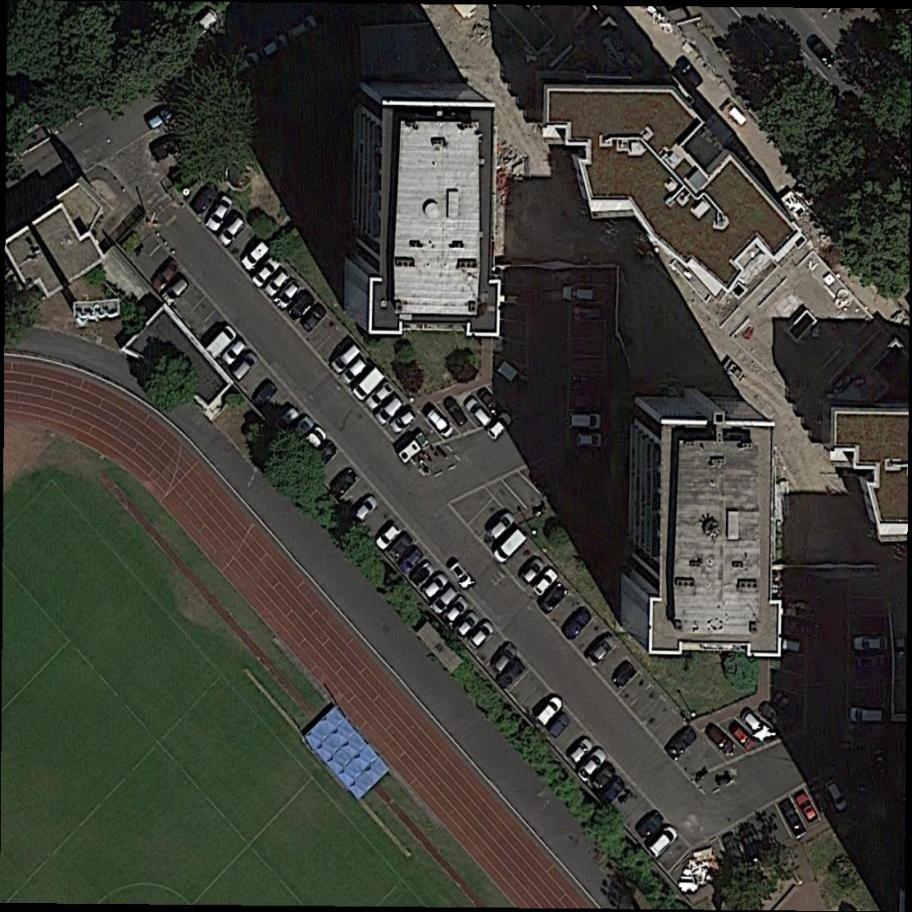small-vehicle: (662, 724, 700, 763), (491, 527, 529, 565), (349, 365, 387, 403), (644, 822, 681, 860), (804, 32, 840, 70), (187, 179, 222, 218), (203, 193, 235, 235), (204, 324, 239, 360), (584, 633, 619, 668), (575, 748, 609, 784), (328, 340, 362, 376), (150, 257, 183, 294), (396, 430, 430, 465), (284, 13, 320, 46), (673, 55, 706, 91), (778, 798, 807, 838), (363, 379, 397, 413), (249, 255, 282, 290), (537, 581, 570, 615), (424, 406, 458, 439), (215, 213, 246, 249), (483, 510, 516, 543), (240, 240, 273, 273), (462, 396, 495, 429), (561, 608, 593, 642), (229, 350, 261, 384), (258, 31, 292, 63), (484, 409, 516, 443), (769, 691, 804, 722), (495, 657, 527, 690), (533, 695, 565, 728), (466, 618, 498, 651), (373, 394, 405, 427), (285, 288, 316, 322), (419, 570, 451, 602), (705, 724, 737, 756), (755, 699, 788, 730), (739, 709, 772, 740), (635, 809, 666, 841), (189, 7, 220, 39), (299, 301, 330, 333), (441, 594, 471, 627), (262, 267, 292, 300), (530, 566, 560, 598), (597, 775, 627, 807), (442, 395, 471, 428), (824, 777, 851, 812), (396, 545, 426, 576), (385, 531, 415, 562), (589, 761, 619, 792), (329, 467, 359, 498), (160, 275, 190, 306), (475, 386, 505, 417), (274, 278, 303, 310), (737, 825, 762, 861), (490, 642, 519, 673), (454, 609, 483, 640), (374, 522, 403, 553), (429, 585, 458, 615), (727, 722, 757, 751), (339, 356, 368, 386), (519, 556, 547, 586), (446, 560, 474, 590), (251, 380, 279, 410), (807, 781, 832, 814), (720, 830, 744, 864), (352, 495, 380, 524), (220, 338, 248, 367), (274, 405, 302, 434), (233, 50, 262, 78), (611, 661, 638, 690), (388, 408, 417, 435), (545, 712, 572, 740), (568, 738, 595, 766), (302, 424, 329, 452), (794, 792, 818, 823), (313, 438, 340, 465), (411, 561, 437, 588), (290, 414, 316, 440), (145, 106, 172, 130), (853, 634, 887, 651), (563, 285, 595, 303), (850, 707, 883, 724), (569, 412, 601, 429), (854, 653, 885, 669), (576, 432, 602, 448), (574, 307, 601, 322)
